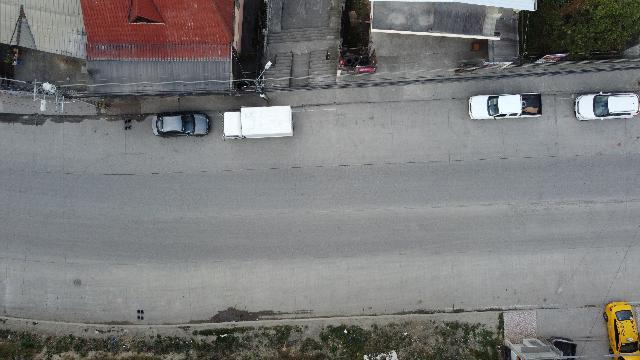Vehiculo: (224, 105, 292, 139), (603, 301, 639, 359), (468, 94, 542, 120), (574, 92, 640, 120), (152, 112, 210, 138)
